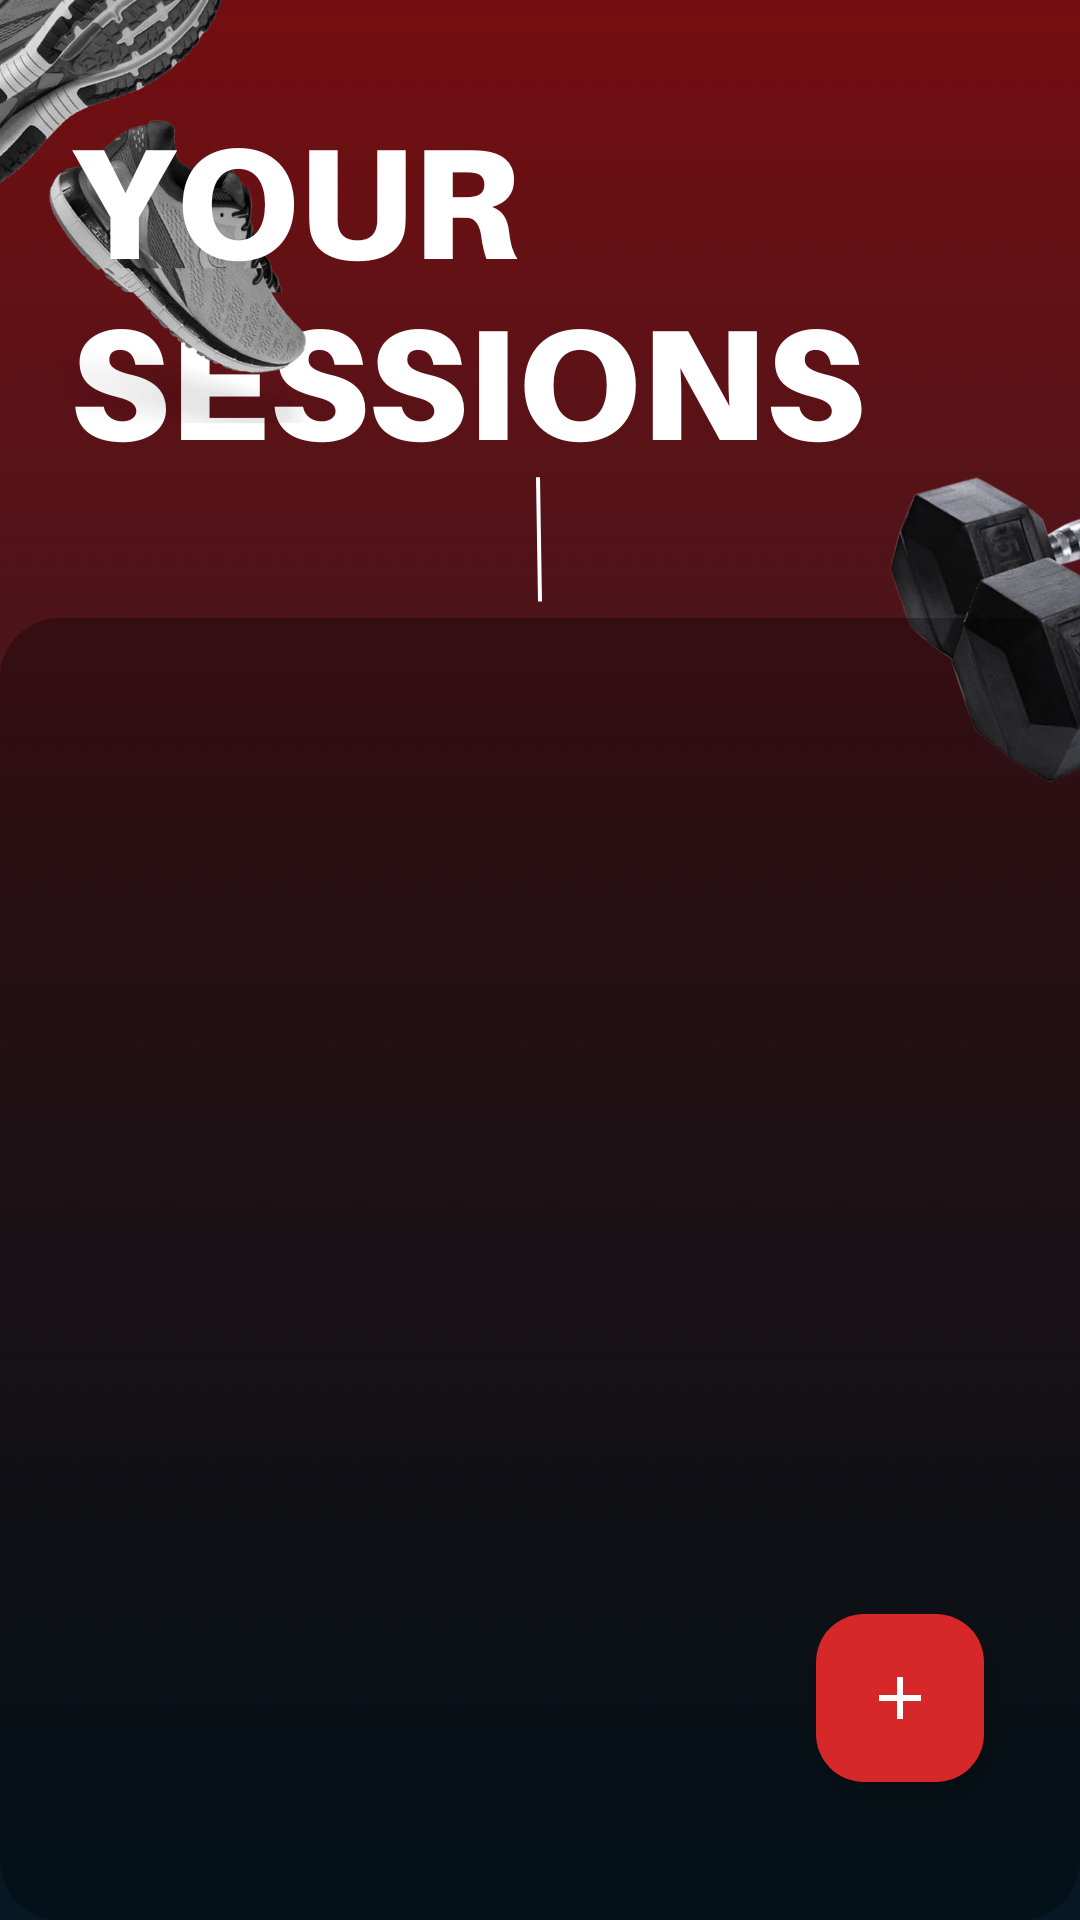

Where icons sit on this 1080 x 1920 app screen, as (x1, y1, x2, y2):
Add button: (816, 1614, 984, 1782)
